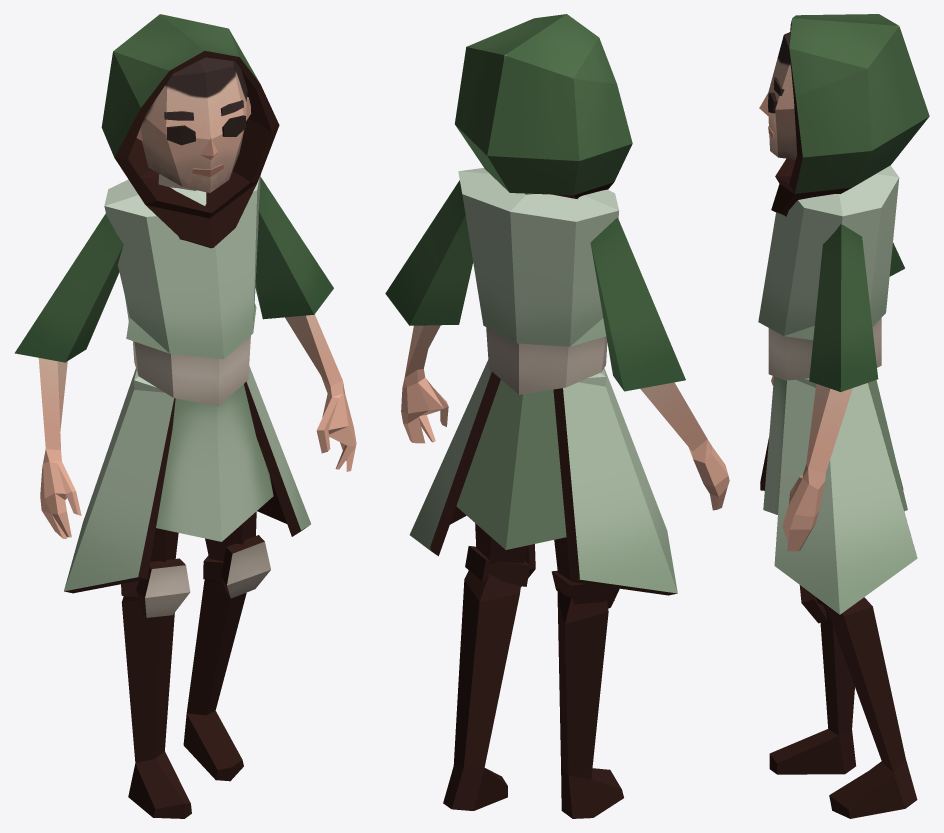
The model's file is ach.gltf.
3 renders of one model, left to right at view 1: azimuth 30°, elevation 25°; view 2: azimuth 150°, elevation 25°; view 3: azimuth 270°, elevation 25°, orthographic. The views are drawn at different scales.
Size of the model in its own units: 0.7383 by 1.71 by 0.3448.
